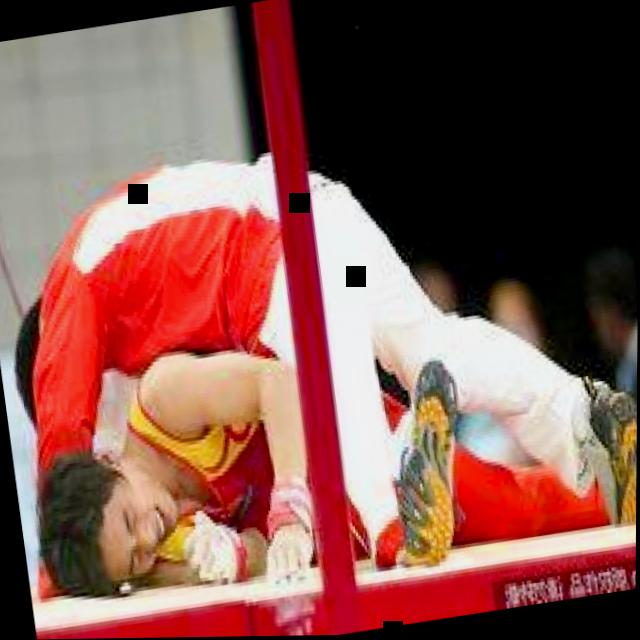Fall-Detected: (0, 46, 640, 598)
